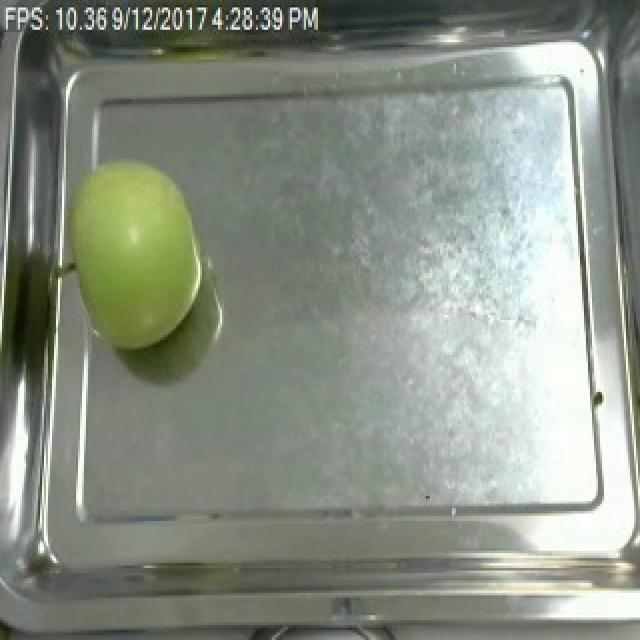50-_ripeness: (59, 158, 213, 351)
